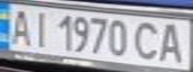0: (106, 17, 133, 57)
1: (51, 11, 72, 51)
7: (87, 16, 109, 55)
9: (69, 12, 90, 53)
A: (154, 20, 190, 64), (6, 6, 36, 47)
C: (130, 19, 163, 62)
I: (27, 8, 54, 48)
